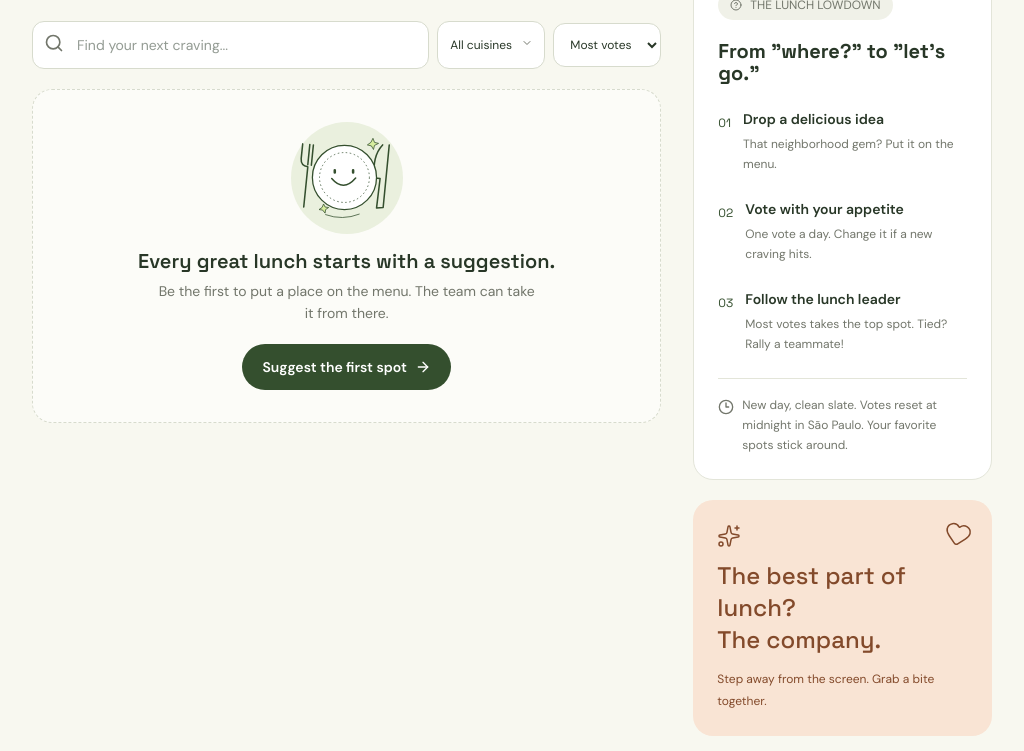
Lunch Picker › starts honestly empty and saves the first suggestion
The width and height of the screenshot is (1024, 751).
(page scrolled)
Click the button "Suggest the first spot": (347, 367) left=242, top=344, right=451, bottom=390
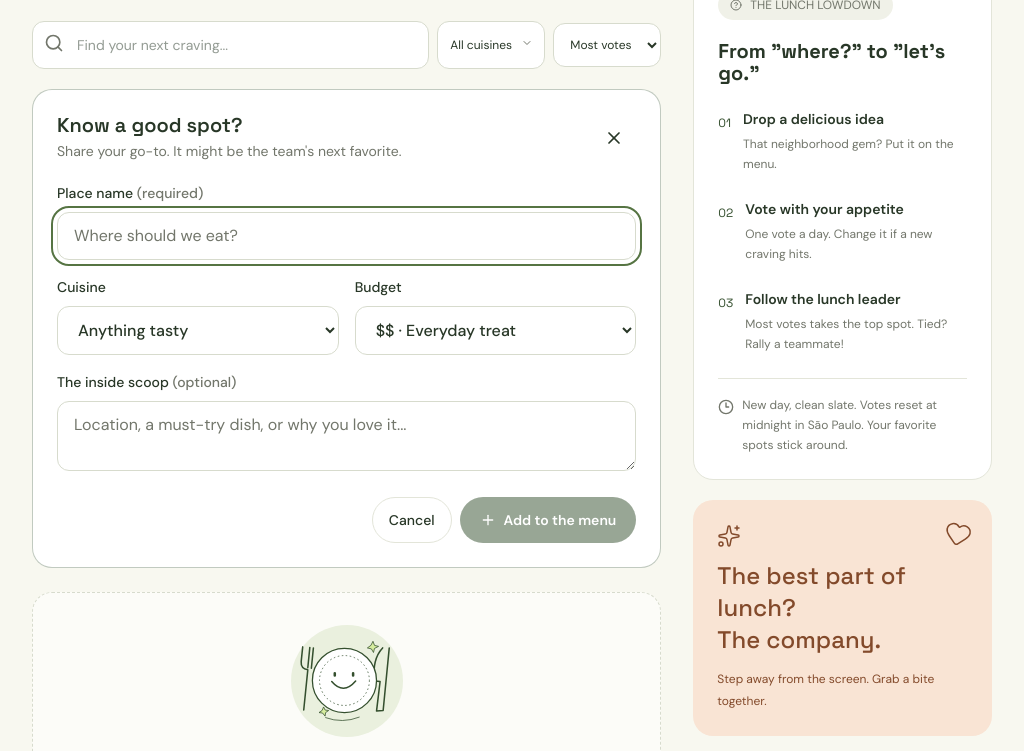
In the field labelled "Place name (required)": (347, 236) left=57, top=212, right=636, bottom=260, type "  Corner Kitchen  "
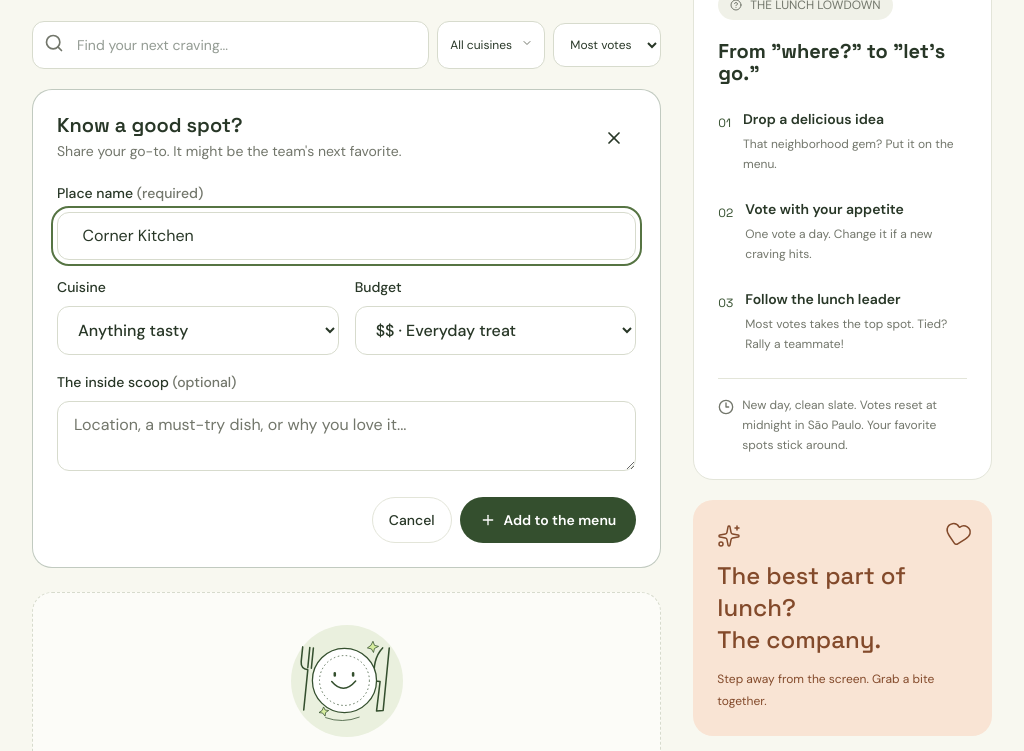
Submit the form, box left=32, top=89, right=661, bottom=568
(page scrolled)
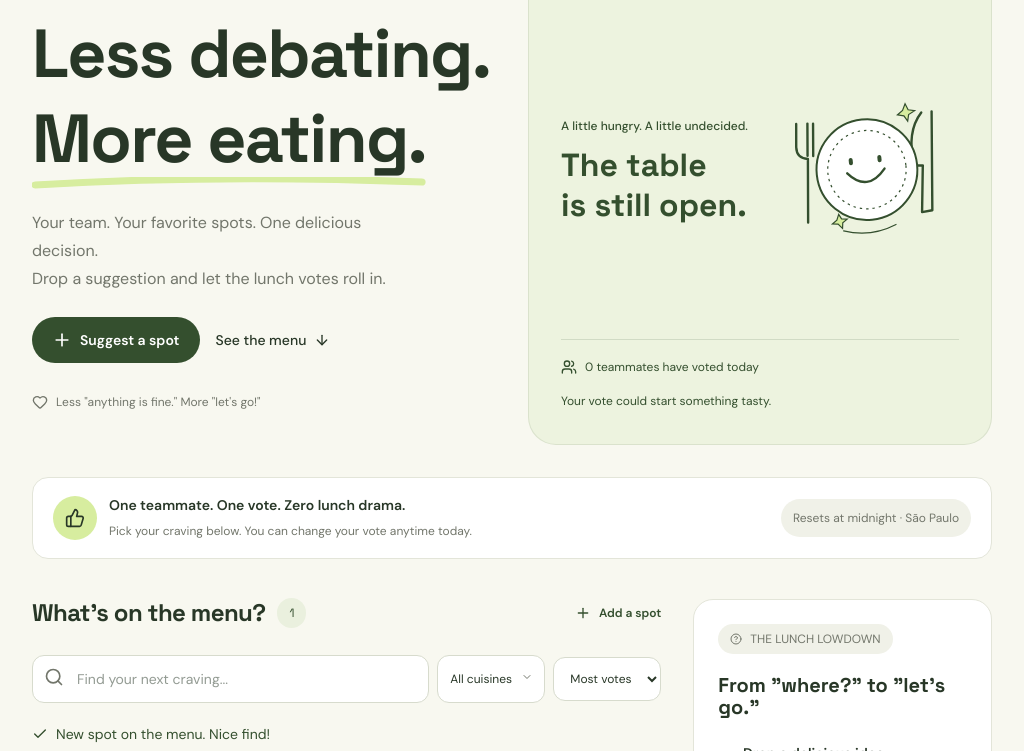
Expected: the text "0 teammates have voted today" is shown, left=561, top=356, right=759, bottom=378
Expected: the text "New spot on the menu. Nice find!" is shown, left=32, top=725, right=270, bottom=743
Expected: the form is gone
